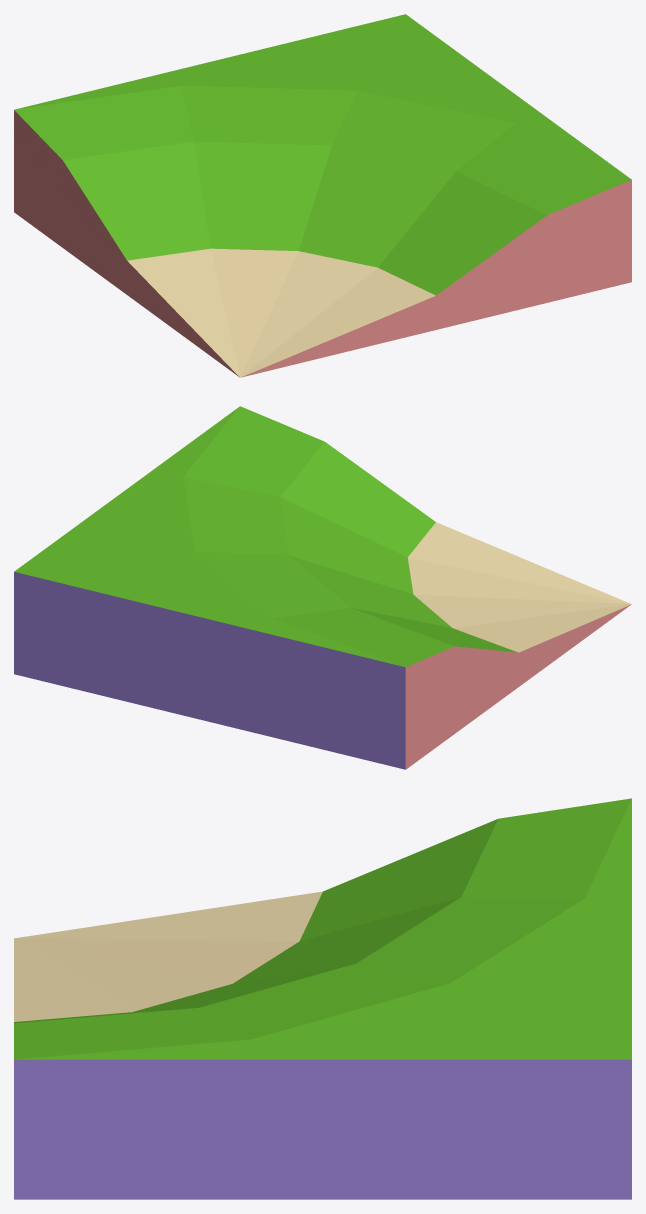
The model's file is Path_Terrain_Basic_Curve_Inner_1x1.glb.
The picture shows the model from 3 angles, top to bottom: view 1: azimuth 30°, elevation 25°; view 2: azimuth 150°, elevation 25°; view 3: azimuth 270°, elevation 25°; orthographic projection. The views are drawn at different scales.
Visible parts, largest first — view 1: Path_Terrain_Basic_Curve_Inner_1x1; view 2: Path_Terrain_Basic_Curve_Inner_1x1; view 3: Path_Terrain_Basic_Curve_Inner_1x1.
Part boxes in pixels (box(x1,y1,x2,y2)): Path_Terrain_Basic_Curve_Inner_1x1: box(14, 14, 631, 377); Path_Terrain_Basic_Curve_Inner_1x1: box(14, 406, 631, 769); Path_Terrain_Basic_Curve_Inner_1x1: box(14, 798, 631, 1199).
Bounding box in the file's own units: 100 × 25 × 100.
